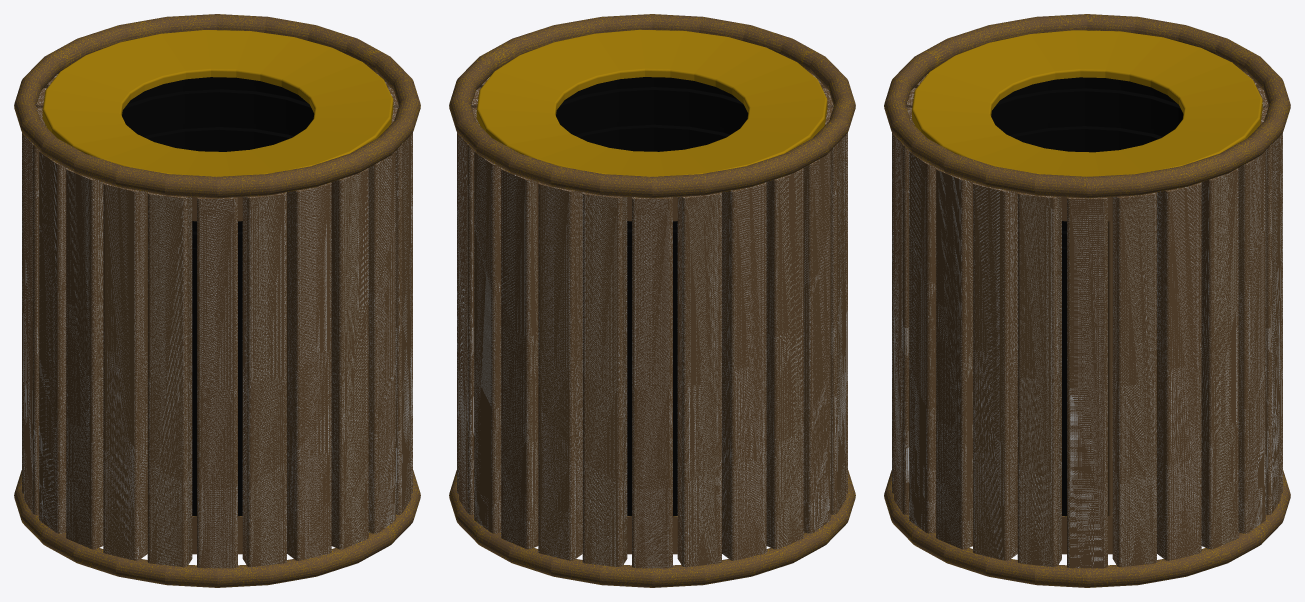
3 renders of one model, left to right at view 1: azimuth 30°, elevation 25°; view 2: azimuth 150°, elevation 25°; view 3: azimuth 270°, elevation 25°, orthographic.
Visible parts, largest first — view 1: mesh94.001_mesh94-geometry, mesh103.001_mesh103-geometry, mesh129.001_mesh129-geometry, mesh130.001_mesh130-geometry, mesh132.001_mesh132-geometry, mesh128.001_mesh128-geometry, mesh131.001_mesh131-geometry, mesh124.001_mesh124-geometry, mesh109.001_mesh109-geometry, mesh73.001_mesh73-geometry, mesh115.001_mesh115-geometry, mesh123.001_mesh123-geometry (+7 smaller); view 2: mesh94.001_mesh94-geometry, mesh103.001_mesh103-geometry, mesh116.001_mesh116-geometry, mesh114.001_mesh114-geometry, mesh112.001_mesh112-geometry, mesh110.001_mesh110-geometry, mesh111.001_mesh111-geometry, mesh122.001_mesh122-geometry, mesh117.001_mesh117-geometry, mesh73.001_mesh73-geometry, mesh123.001_mesh123-geometry, mesh125.001_mesh125-geometry (+7 smaller); view 3: mesh94.001_mesh94-geometry, mesh103.001_mesh103-geometry, mesh113.001_mesh113-geometry, mesh126.001_mesh126-geometry, mesh121.001_mesh121-geometry, mesh102.001_mesh102-geometry, mesh119.001_mesh119-geometry, mesh120.001_mesh120-geometry, mesh127.001_mesh127-geometry, mesh73.001_mesh73-geometry, mesh125.001_mesh125-geometry, mesh115.001_mesh115-geometry (+7 smaller).
Part boxes in pixels (x1=…): mesh94.001_mesh94-geometry: x1=42, y1=30, x2=393, y2=176; mesh103.001_mesh103-geometry: x1=14, y1=14, x2=420, y2=198; mesh129.001_mesh129-geometry: x1=147, y1=192, x2=192, y2=567; mesh130.001_mesh130-geometry: x1=242, y1=192, x2=286, y2=567; mesh132.001_mesh132-geometry: x1=287, y1=182, x2=331, y2=560; mesh128.001_mesh128-geometry: x1=103, y1=182, x2=147, y2=560; mesh131.001_mesh131-geometry: x1=197, y1=197, x2=237, y2=568; mesh124.001_mesh124-geometry: x1=66, y1=168, x2=103, y2=549; mesh109.001_mesh109-geometry: x1=331, y1=168, x2=368, y2=549; mesh73.001_mesh73-geometry: x1=122, y1=77, x2=314, y2=516; mesh115.001_mesh115-geometry: x1=368, y1=151, x2=395, y2=533; mesh123.001_mesh123-geometry: x1=39, y1=151, x2=66, y2=533; mesh94.001_mesh94-geometry: x1=476, y1=29, x2=827, y2=176; mesh103.001_mesh103-geometry: x1=449, y1=14, x2=855, y2=198; mesh116.001_mesh116-geometry: x1=582, y1=192, x2=627, y2=567; mesh114.001_mesh114-geometry: x1=677, y1=192, x2=721, y2=567; mesh112.001_mesh112-geometry: x1=538, y1=182, x2=582, y2=560; mesh110.001_mesh110-geometry: x1=722, y1=182, x2=766, y2=560; mesh111.001_mesh111-geometry: x1=632, y1=197, x2=672, y2=568; mesh122.001_mesh122-geometry: x1=501, y1=168, x2=538, y2=549; mesh117.001_mesh117-geometry: x1=766, y1=168, x2=803, y2=549; mesh73.001_mesh73-geometry: x1=556, y1=77, x2=748, y2=516; mesh123.001_mesh123-geometry: x1=803, y1=151, x2=830, y2=533; mesh125.001_mesh125-geometry: x1=474, y1=151, x2=501, y2=533; mesh94.001_mesh94-geometry: x1=912, y1=30, x2=1262, y2=176; mesh103.001_mesh103-geometry: x1=884, y1=14, x2=1290, y2=198; mesh113.001_mesh113-geometry: x1=1017, y1=192, x2=1061, y2=567; mesh126.001_mesh126-geometry: x1=1112, y1=192, x2=1156, y2=567; mesh121.001_mesh121-geometry: x1=1157, y1=182, x2=1201, y2=560; mesh102.001_mesh102-geometry: x1=973, y1=182, x2=1017, y2=560; mesh119.001_mesh119-geometry: x1=1067, y1=197, x2=1107, y2=568; mesh120.001_mesh120-geometry: x1=1201, y1=168, x2=1238, y2=549; mesh127.001_mesh127-geometry: x1=936, y1=168, x2=973, y2=549; mesh73.001_mesh73-geometry: x1=991, y1=77, x2=1183, y2=516; mesh125.001_mesh125-geometry: x1=1238, y1=151, x2=1265, y2=533; mesh115.001_mesh115-geometry: x1=909, y1=151, x2=935, y2=533.
Size of the model in its own units: 0.5562 by 0.6174 by 0.5563.
